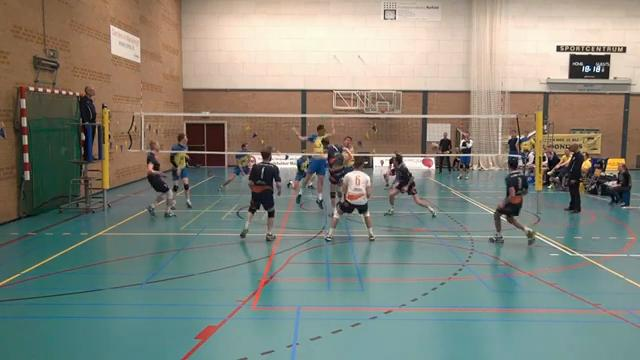Player: (325, 157, 374, 240), (489, 159, 535, 244), (240, 147, 280, 240), (293, 121, 334, 208), (384, 154, 435, 216), (323, 139, 352, 215), (147, 140, 174, 217), (170, 133, 191, 208), (220, 143, 250, 189), (287, 155, 310, 190), (383, 153, 397, 189), (342, 136, 354, 173)
